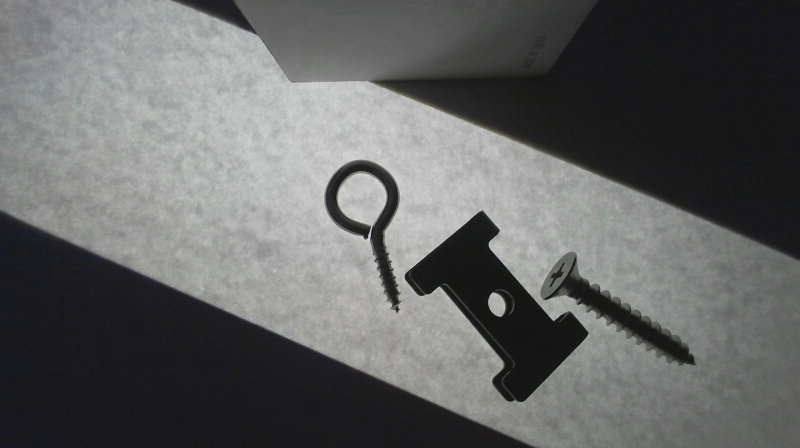O001: (322, 158, 404, 316)
O002: (402, 209, 590, 402)
S001: (541, 252, 699, 368)
